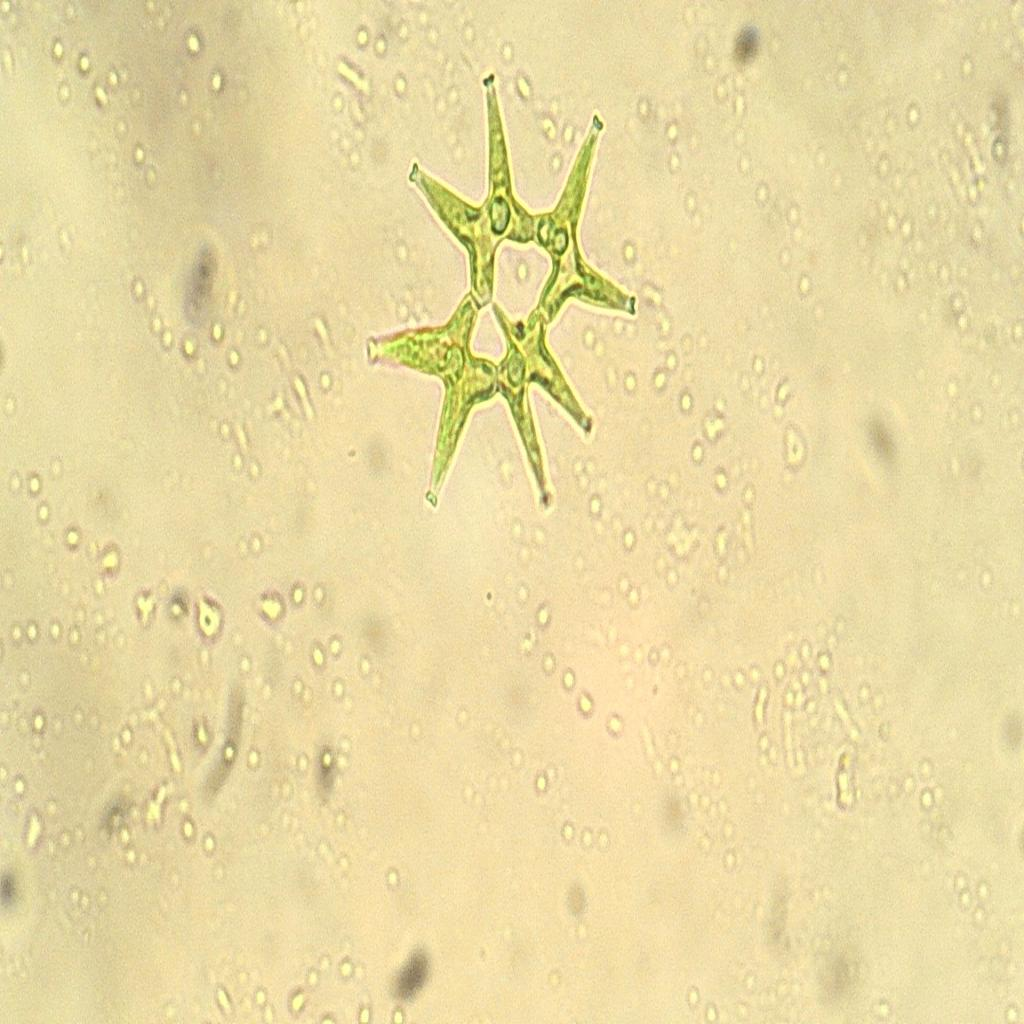Pediastrum_75FO: (357, 53, 643, 528)
